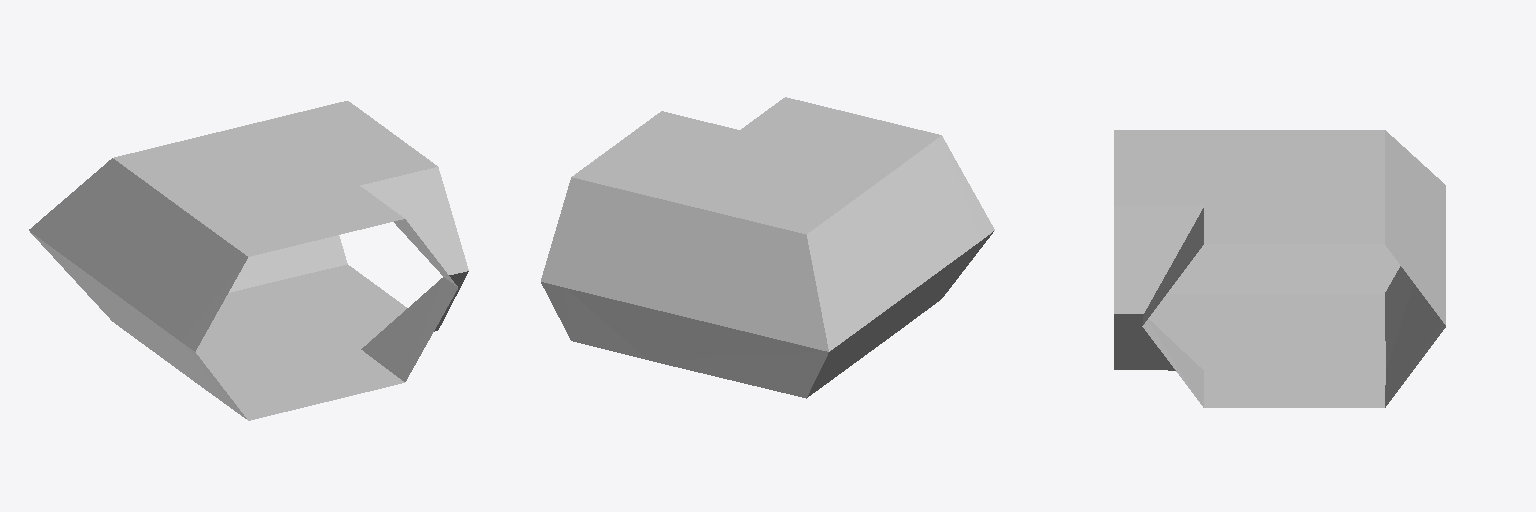
Rendered from rturn.obj.
3 views of the same model, side by side, from view 1: azimuth 30°, elevation 25°; view 2: azimuth 150°, elevation 25°; view 3: azimuth 270°, elevation 25° (orthographic).
Parts seen in each view (by area): view 1: Cube.005_Cube.001; view 2: Cube.005_Cube.001; view 3: Cube.005_Cube.001.
Boxes of the visible parts, box(x1,y1,x2,y2) form: Cube.005_Cube.001: box(29, 101, 468, 420); Cube.005_Cube.001: box(541, 97, 994, 398); Cube.005_Cube.001: box(1114, 130, 1445, 407).
Bounding box in the file's own units: 3.69 × 2 × 3.68.